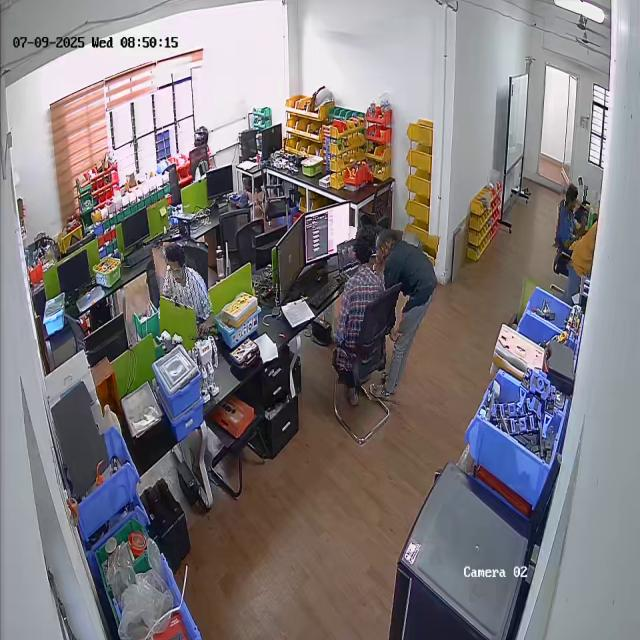person: (364, 230, 439, 405), (334, 227, 382, 387), (154, 240, 214, 342), (555, 183, 586, 251)
